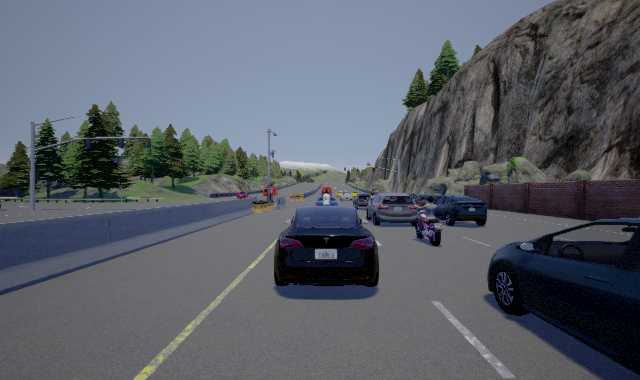motobike: (411, 195, 445, 246)
traffic_light: (372, 167, 374, 171), (344, 167, 346, 171)
vehicle: (487, 217, 640, 375), (274, 205, 376, 287), (431, 191, 491, 231), (368, 191, 418, 228), (316, 195, 340, 208)
